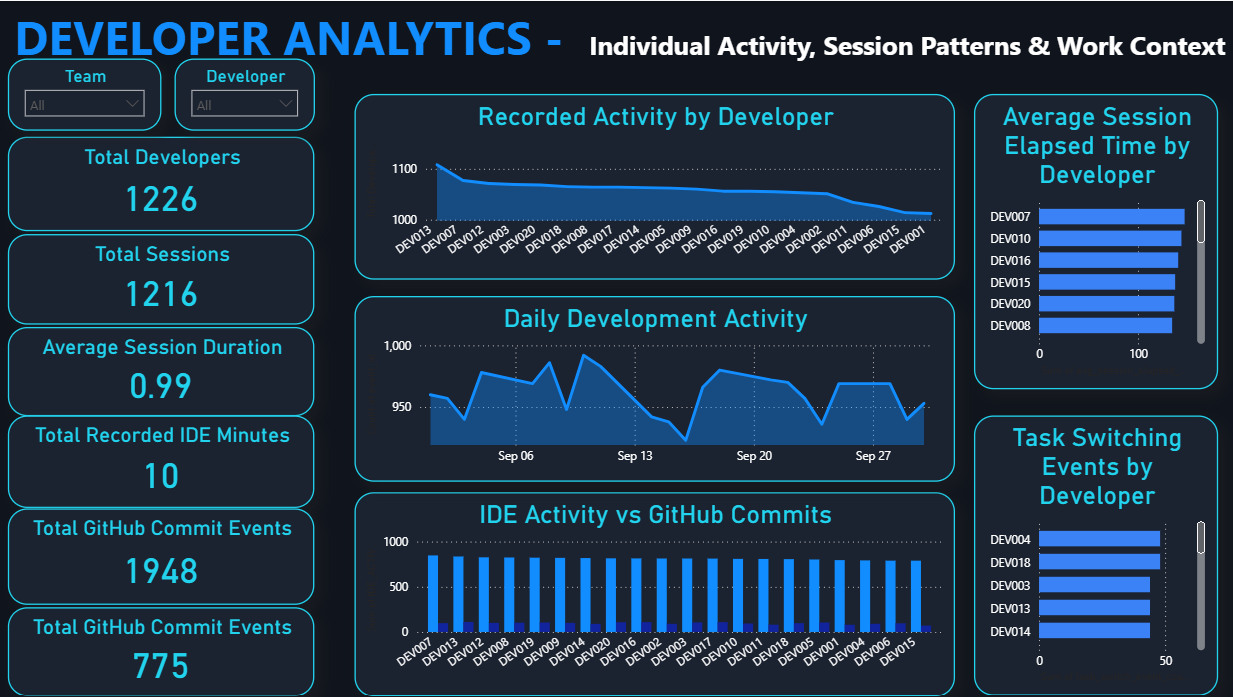

What the dashboard file says about the page in this screenshot:
{"tool":"powerbi","page":{"name":"Developer Analytics","canvas":[1280,720],"ordinal":3},"visuals":[{"type":"textbox","box":[10.7,0,1269.2,96.6],"z":0},{"type":"card","title":"Total Developers","fields":{"Values":["event_overview.Session Count"]},"box":[9.8,140.8,316.9,97.8],"z":1000},{"type":"card","title":"Total Sessions","fields":{"Values":["event_overview.Valid Sessions"]},"box":[9.8,240.6,316.9,93.9],"z":2000},{"type":"card","title":"Average Session Duration","fields":{"Values":["event_overview.Session Quality Rate"]},"box":[9.8,336.4,316.9,91.9],"z":3000},{"type":"card","title":"Total Recorded IDE Minutes","fields":{"Values":["event_overview.Flagged Sessions"]},"box":[9.8,428.4,316.9,95.8],"z":4000},{"type":"card","title":"Total GitHub Commit Events","fields":{"Values":["developer_analytics.Total GitHub Commits"]},"box":[9.8,524.2,316.9,99.8],"z":5000},{"type":"card","title":"Total GitHub Commit Events","fields":{"Values":["developer_analytics.Total Task Switches"]},"box":[9.8,625.9,316.9,91.9],"z":6000},{"type":"clusteredColumnChart","title":"IDE Activity vs GitHub Commits","fields":{"Category":["developer_analytics.developer_id"],"Y":["Sum(developer_analytics.IDE_ACTIVE)","Sum(developer_analytics.GITHUB_COMMIT)"]},"box":[367.7,506.6,620.1,211.3],"z":7000},{"type":"stackedAreaChart","title":"Recorded Activity by Developer","fields":{"Category":["developer_analytics.developer_id"],"Y":["developer_analytics.Total Developer Events"]},"box":[367.7,95.8,620.1,191.7],"z":8000},{"type":"clusteredBarChart","title":"Average Session Elapsed Time by Developer","fields":{"Category":["developer_analytics.developer_id"],"Y":["Sum(developer_analytics.avg_session_elapsed_minutes)"]},"box":[1007.4,95.8,252.3,305.2],"z":9000},{"type":"clusteredBarChart","title":"Task Switching Events by Developer","fields":{"Category":["developer_analytics.developer_id"],"Y":["Sum(developer_analytics.task_switch_event_count)"]},"box":[1007.4,428.4,252.3,289.5],"z":10000},{"type":"areaChart","title":"Daily Development Activity","fields":{"Y":["Count(event_overview.event_id)"],"Category":["event_overview.timestamp.Variation.Date Hierarchy.Year","event_overview.timestamp.Variation.Date Hierarchy.Quarter","event_overview.timestamp.Variation.Date Hierarchy.Month","event_overview.timestamp.Variation.Date Hierarchy.Day"]},"box":[367.7,305.1,620.1,191.7],"z":11000},{"type":"slicer","title":"Team","fields":{"Values":["developer_analytics.team"]},"box":[9.8,58.7,158.4,74.3],"z":12000},{"type":"slicer","title":"Developer","fields":{"Values":["developer_analytics.developer_id"]},"box":[181.9,58.7,144.8,74.3],"z":13000}]}

Visuals, with their boxes in screenshot pixels (x1, y1, x2, y2), scaled from the page's 1280x720 canvas onto the 1233x697 screenshot:
textbox: bbox=[10, 0, 1232, 94]
"Total Developers" card: bbox=[9, 136, 315, 231]
"Total Sessions" card: bbox=[9, 233, 315, 324]
"Average Session Duration" card: bbox=[9, 326, 315, 415]
"Total Recorded IDE Minutes" card: bbox=[9, 415, 315, 507]
"Total GitHub Commit Events" card: bbox=[9, 507, 315, 604]
"Total GitHub Commit Events" card: bbox=[9, 606, 315, 695]
"IDE Activity vs GitHub Commits" clusteredColumnChart: bbox=[354, 490, 952, 695]
"Recorded Activity by Developer" stackedAreaChart: bbox=[354, 93, 952, 278]
"Average Session Elapsed Time by Developer" clusteredBarChart: bbox=[970, 93, 1213, 388]
"Task Switching Events by Developer" clusteredBarChart: bbox=[970, 415, 1213, 695]
"Daily Development Activity" areaChart: bbox=[354, 295, 952, 481]
"Team" slicer: bbox=[9, 57, 162, 129]
"Developer" slicer: bbox=[175, 57, 315, 129]
